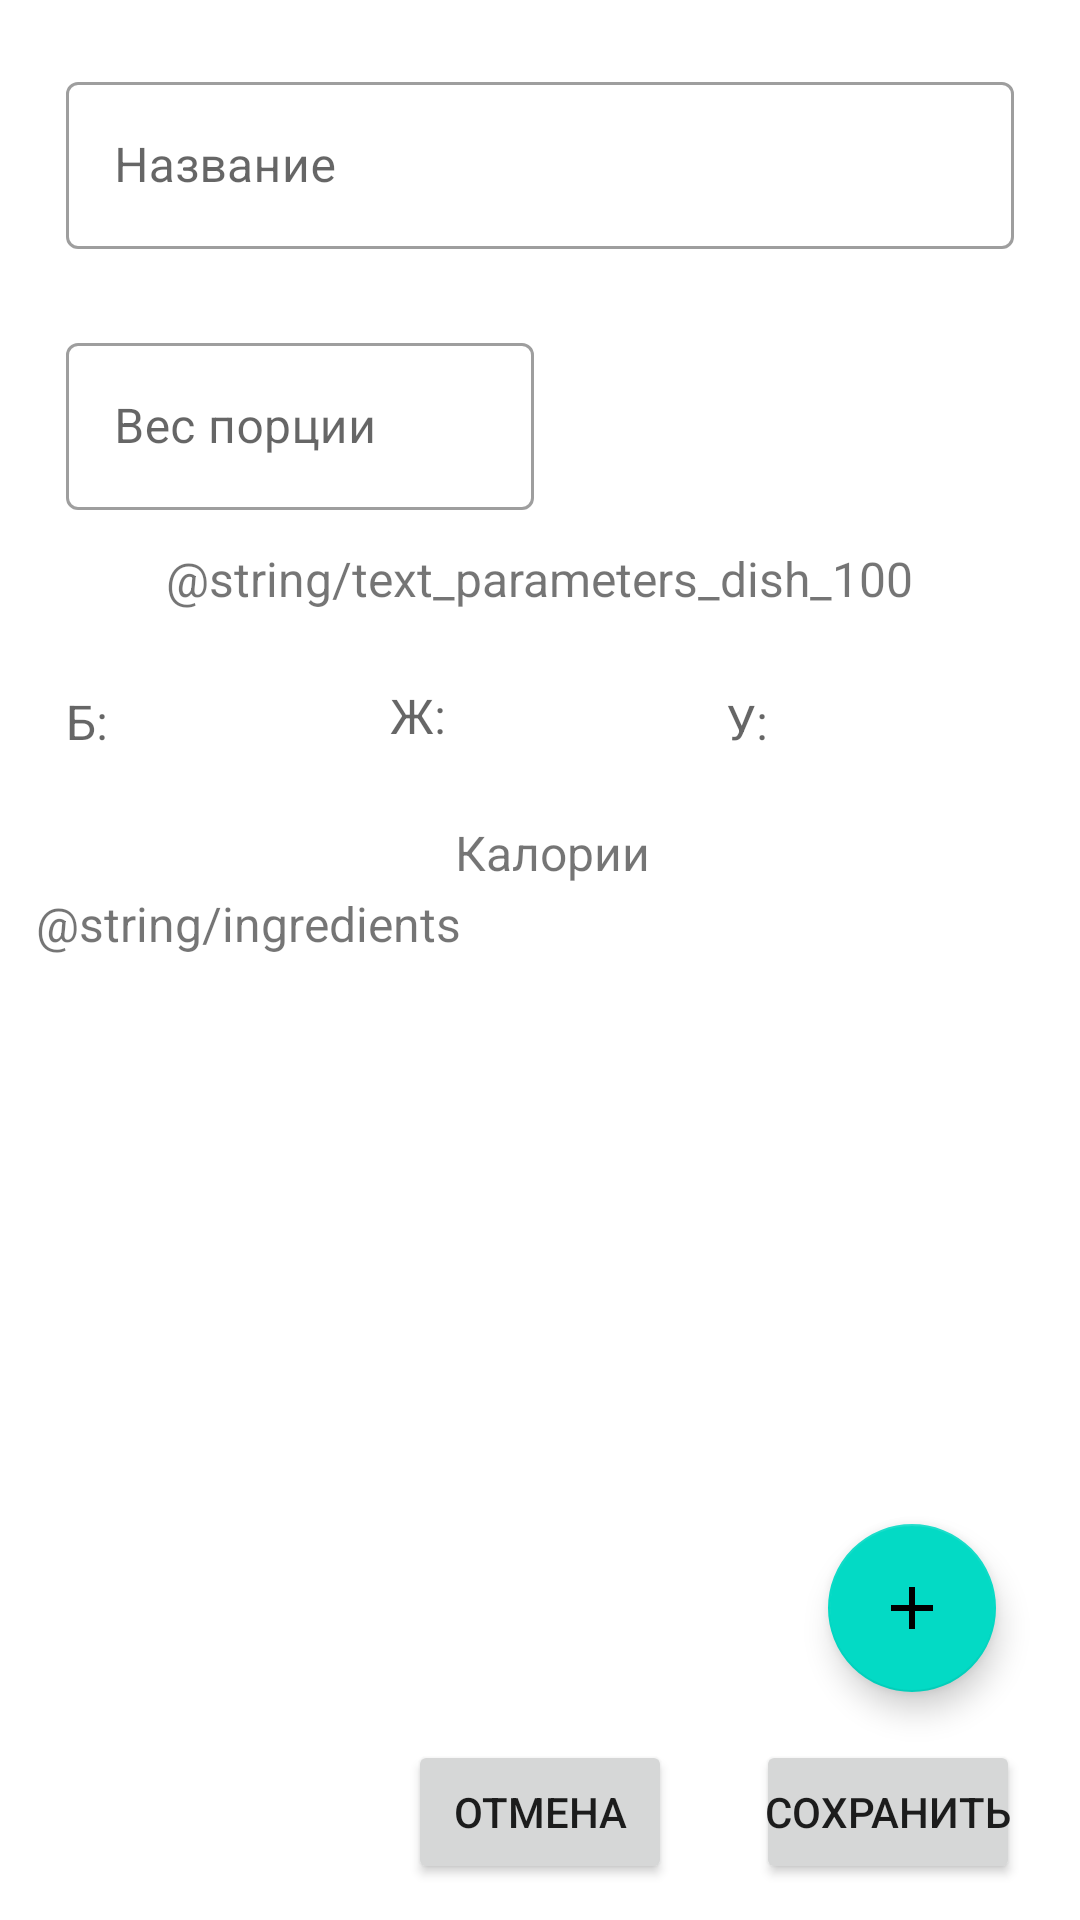

Locate icon controls on the screen. Image size 1080*1920, boxes as (x1, y1, x2, y2).
add: (828, 1524, 996, 1692)
